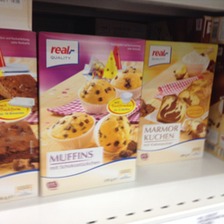cake: (37, 31, 145, 200), (142, 36, 220, 165)
